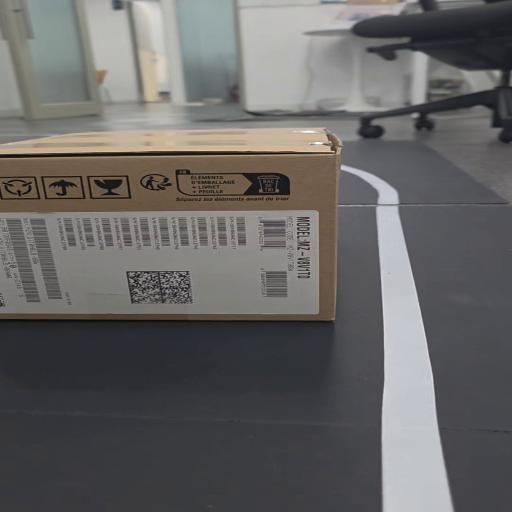Box: (4, 126, 343, 323)
